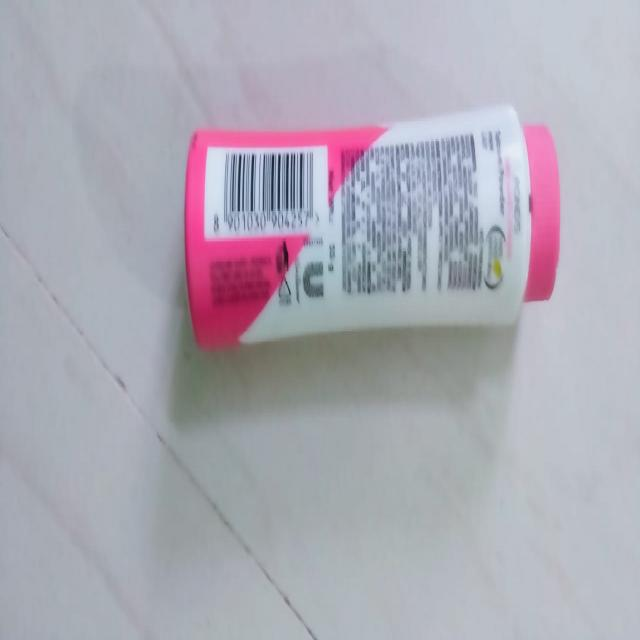powder: (185, 106, 562, 348)
